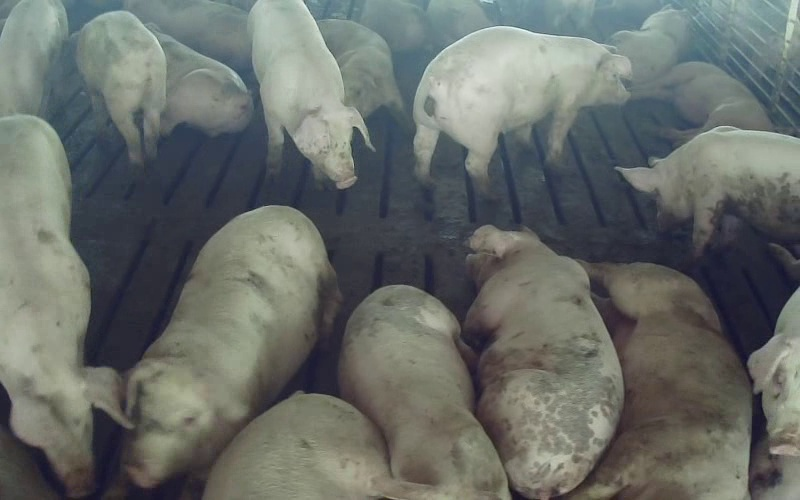pig: (124, 206, 339, 487), (464, 225, 623, 499), (566, 263, 750, 499), (339, 285, 509, 499), (413, 27, 631, 193), (248, 0, 373, 188), (618, 126, 799, 255), (203, 392, 389, 499), (76, 11, 165, 166), (146, 24, 252, 136), (632, 62, 773, 146), (317, 19, 408, 127), (610, 7, 688, 83)
